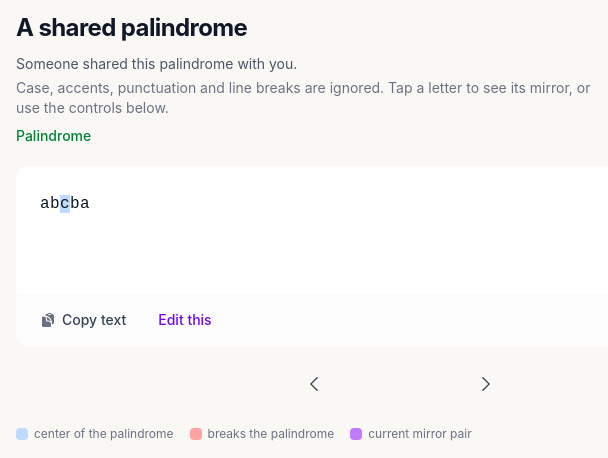
Scenario: Reader › the pair label counts pairs, excluding a lone center
The width and height of the screenshot is (608, 458).
Expected: the button "Copy text" is shown, [32,304,134,336]
Click the button named "Next pair": click(486, 384) [464,362,508,406]
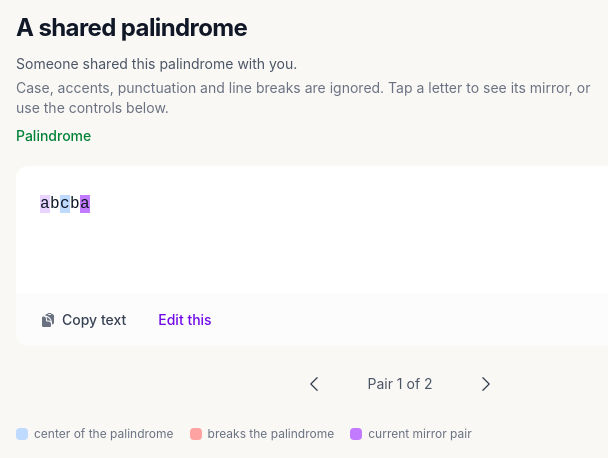
Now the text "Pair 1 of 2" is shown, box [368,375,433,392]
Click the button named "Next pair": click(486, 384) [464,362,508,406]
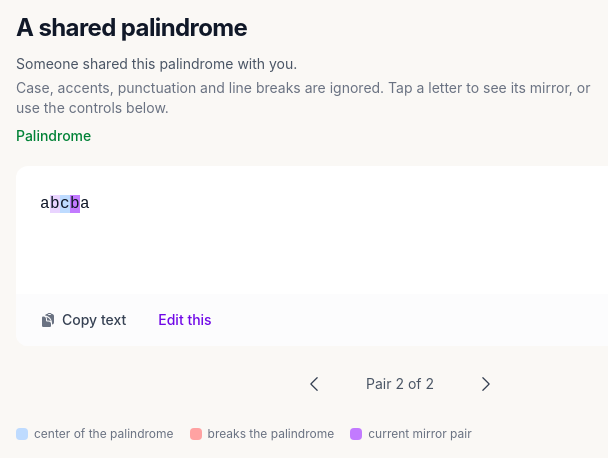
Now the text "Pair 2 of 2" is shown, box [366,375,434,392]
Click the button named "Next pair": click(486, 384) [464,362,508,406]
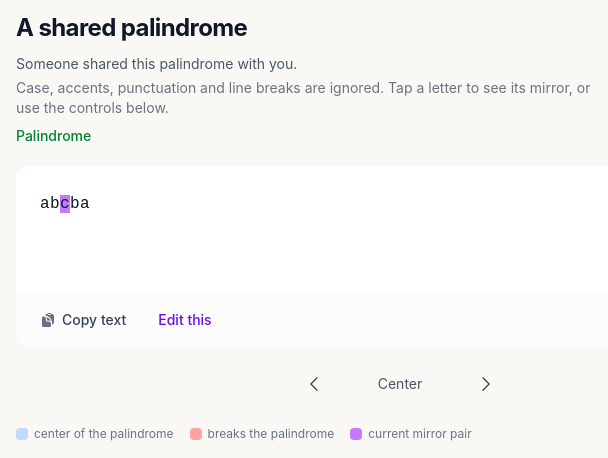
Now the text "Center" is shown, box [378,375,422,392]
